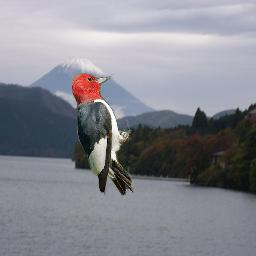Woodpecker: (72, 72, 135, 196)
